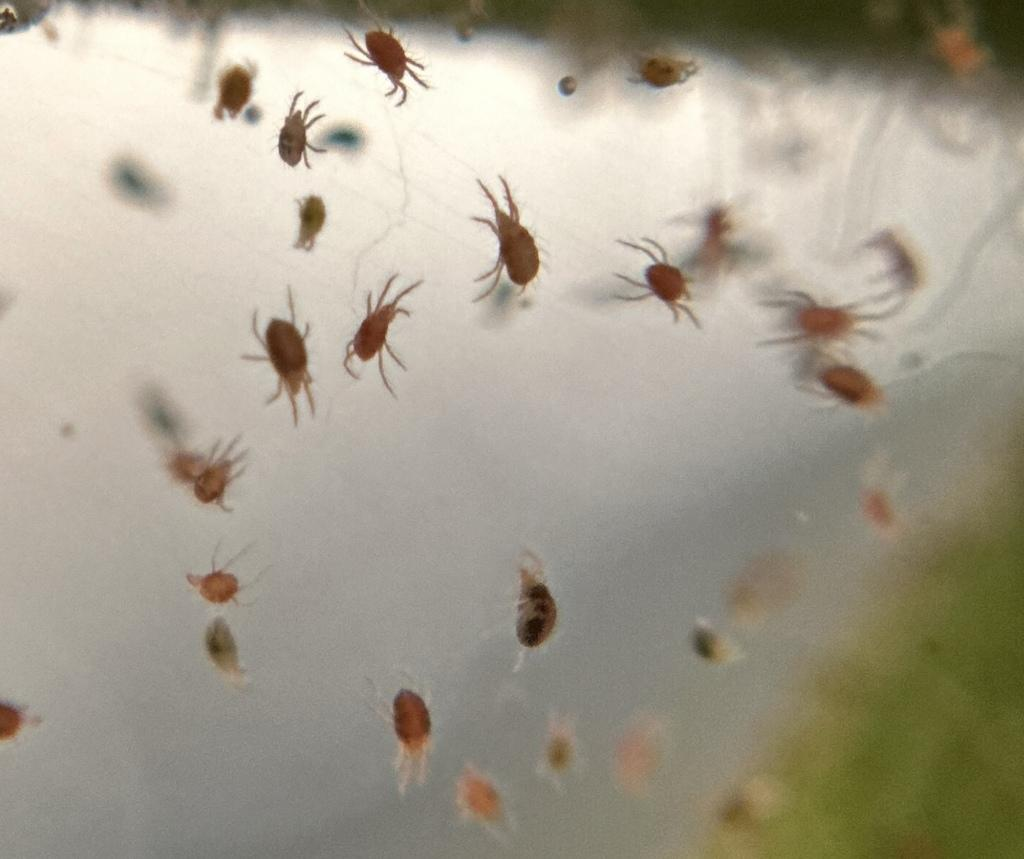tiny_pests: (443, 144, 574, 334), (211, 266, 353, 436), (345, 654, 468, 811), (740, 264, 925, 361), (319, 1, 465, 121), (588, 204, 710, 341), (146, 509, 286, 621), (330, 256, 430, 408), (488, 535, 581, 680), (766, 345, 908, 435), (242, 79, 345, 185), (191, 29, 278, 138), (618, 31, 722, 109)
